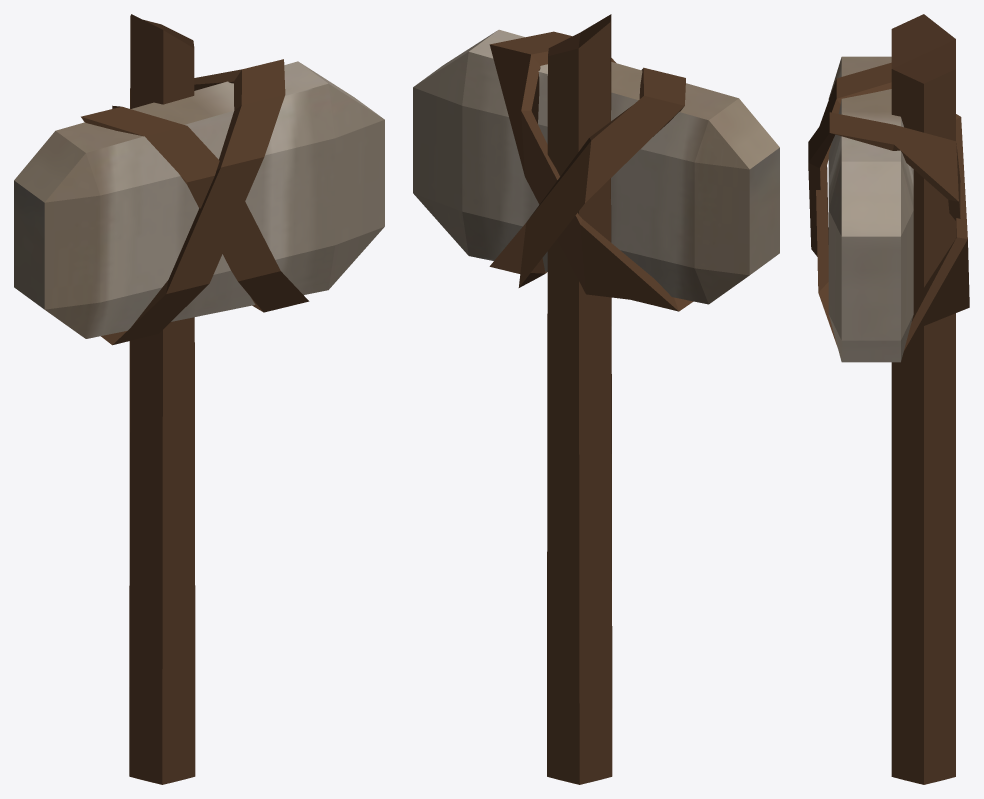
The model's file is buada.fbx.
The picture shows the model from 3 angles, left to right: view 1: azimuth 30°, elevation 25°; view 2: azimuth 150°, elevation 25°; view 3: azimuth 270°, elevation 25°; orthographic projection. The views are drawn at different scales.
Parts seen in each view (by area): view 1: buada; view 2: buada; view 3: buada.
Boxes of the visible parts, <box> form: buada: <box>14,14,384,784</box>; buada: <box>413,14,779,784</box>; buada: <box>808,14,969,784</box>.
Size of the model in its own units: 1.53 by 3.32 by 0.6491.
1 material, 1 textured.
